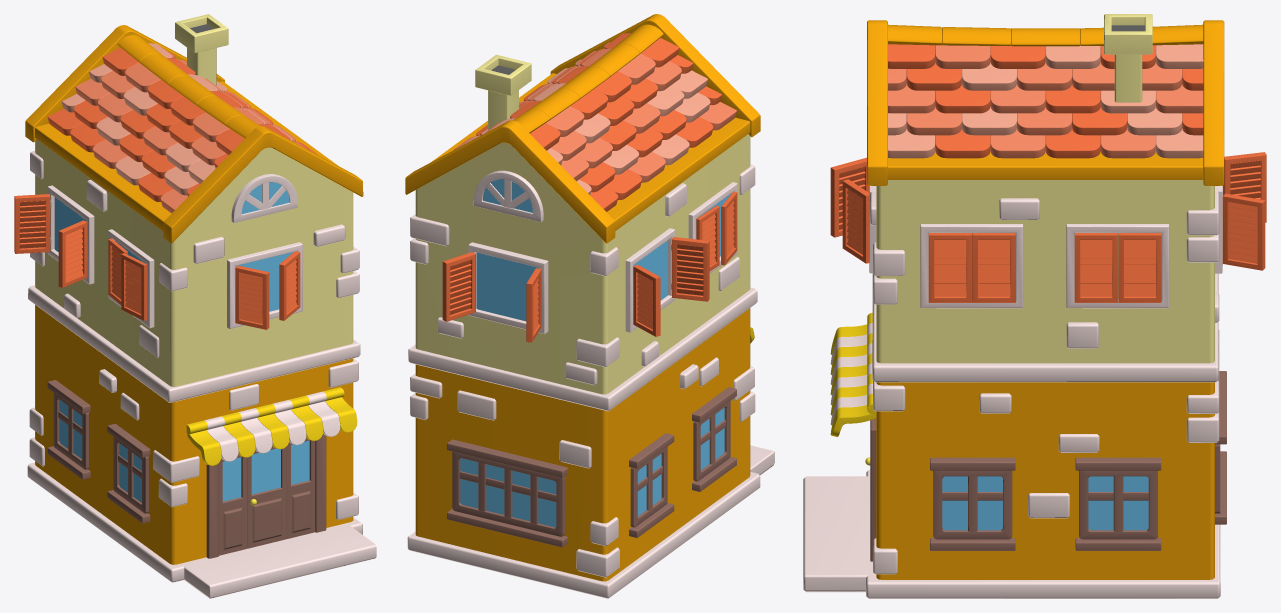
Rendered from City_12_House_1.glb.
3 renders of one model, left to right at view 1: azimuth 30°, elevation 25°; view 2: azimuth 150°, elevation 25°; view 3: azimuth 270°, elevation 25°, orthographic. The views are drawn at different scales.
Parts seen in each view (by area): view 1: City_12_House_1; view 2: City_12_House_1; view 3: City_12_House_1.
Boxes of the visible parts, bbox=[...] form: City_12_House_1: bbox=[14, 14, 376, 598]; City_12_House_1: bbox=[405, 14, 774, 598]; City_12_House_1: bbox=[803, 14, 1266, 598].
Bounding box in the file's own units: 5.23 × 9.85 × 7.61.
1 material, 1 textured.
